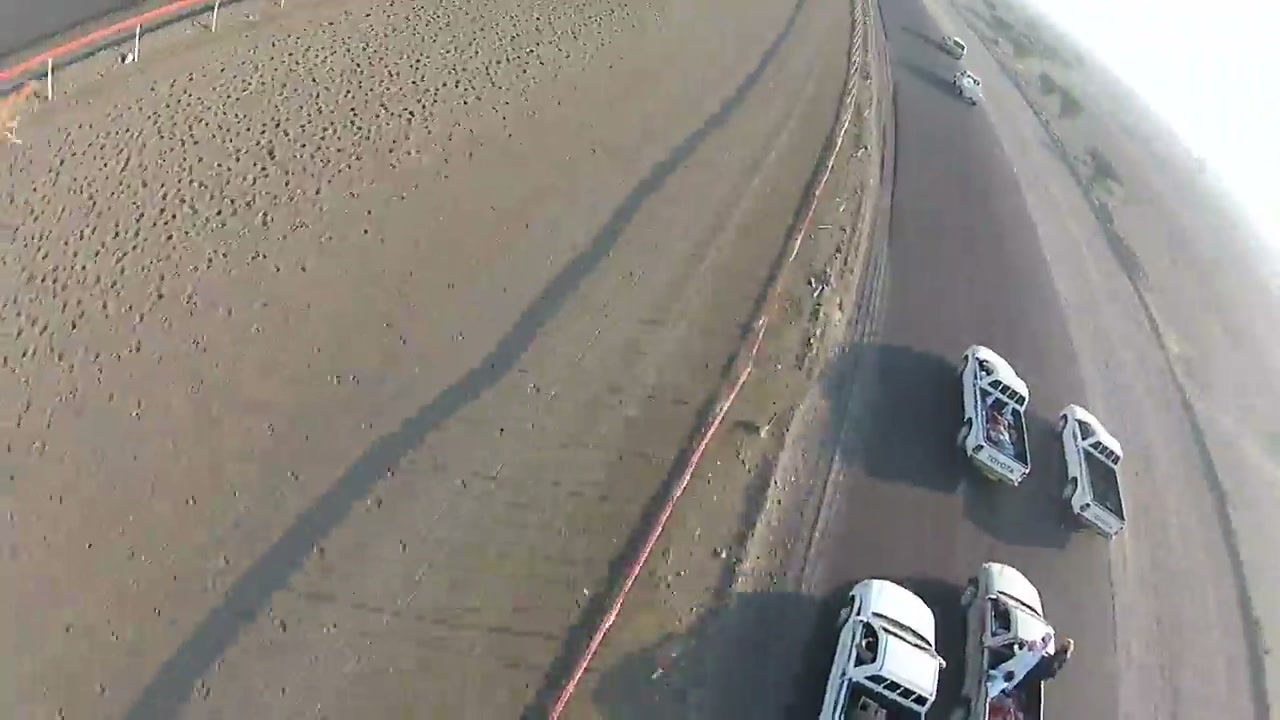animal_foot_print: (8, 2, 575, 360)
